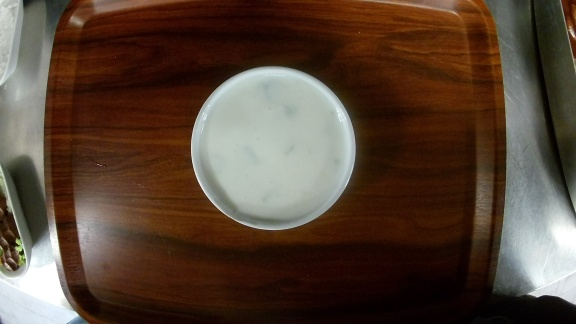cacik: (191, 65, 356, 231)
